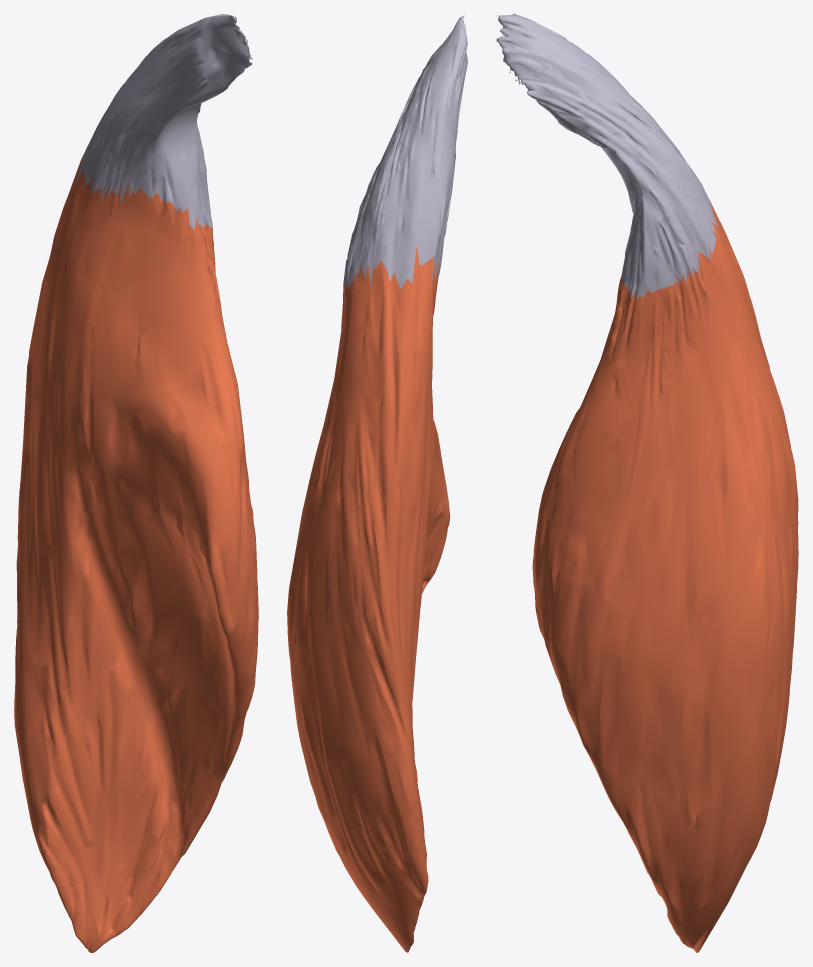
File: Gastrocnemius_medial_head_right.glb
3 views of the same model, side by side, from view 1: azimuth 30°, elevation 25°; view 2: azimuth 150°, elevation 25°; view 3: azimuth 270°, elevation 25° (orthographic). The views are drawn at different scales.
Parts seen in each view (by area): view 1: Medial_head_of_gastrocnemius.r_Generated_Mesh_From_X3D.355; view 2: Medial_head_of_gastrocnemius.r_Generated_Mesh_From_X3D.355; view 3: Medial_head_of_gastrocnemius.r_Generated_Mesh_From_X3D.355.
Boxes of the visible parts, <box> form: Medial_head_of_gastrocnemius.r_Generated_Mesh_From_X3D.355: <box>14,14,258,952</box>; Medial_head_of_gastrocnemius.r_Generated_Mesh_From_X3D.355: <box>287,14,467,952</box>; Medial_head_of_gastrocnemius.r_Generated_Mesh_From_X3D.355: <box>496,14,798,952</box>.
Bounding box in the file's own units: 0.0511 × 0.2998 × 0.0859.
